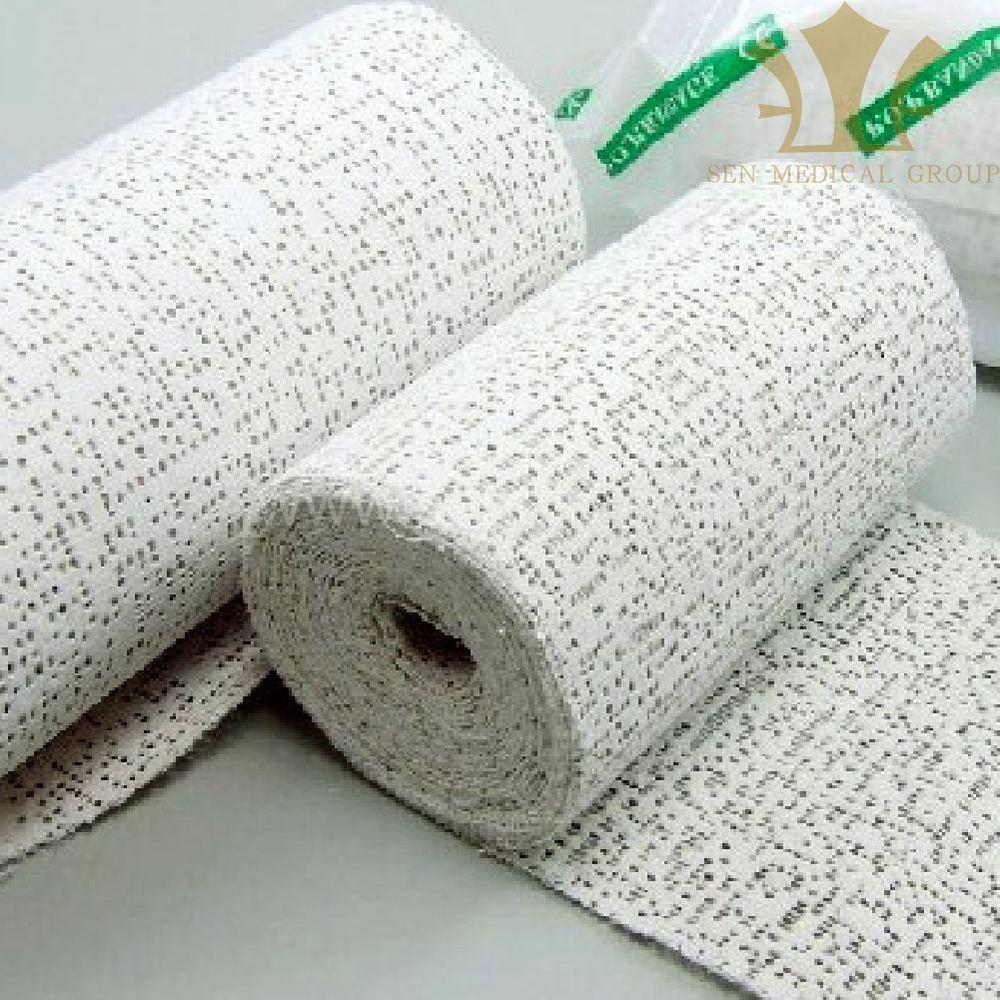bandage: (248, 152, 1000, 1000), (0, 0, 594, 875)
